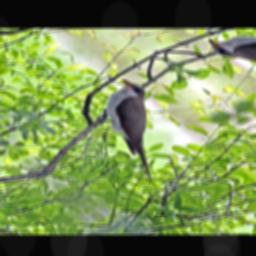Cuckoo: (52, 75, 223, 185)
